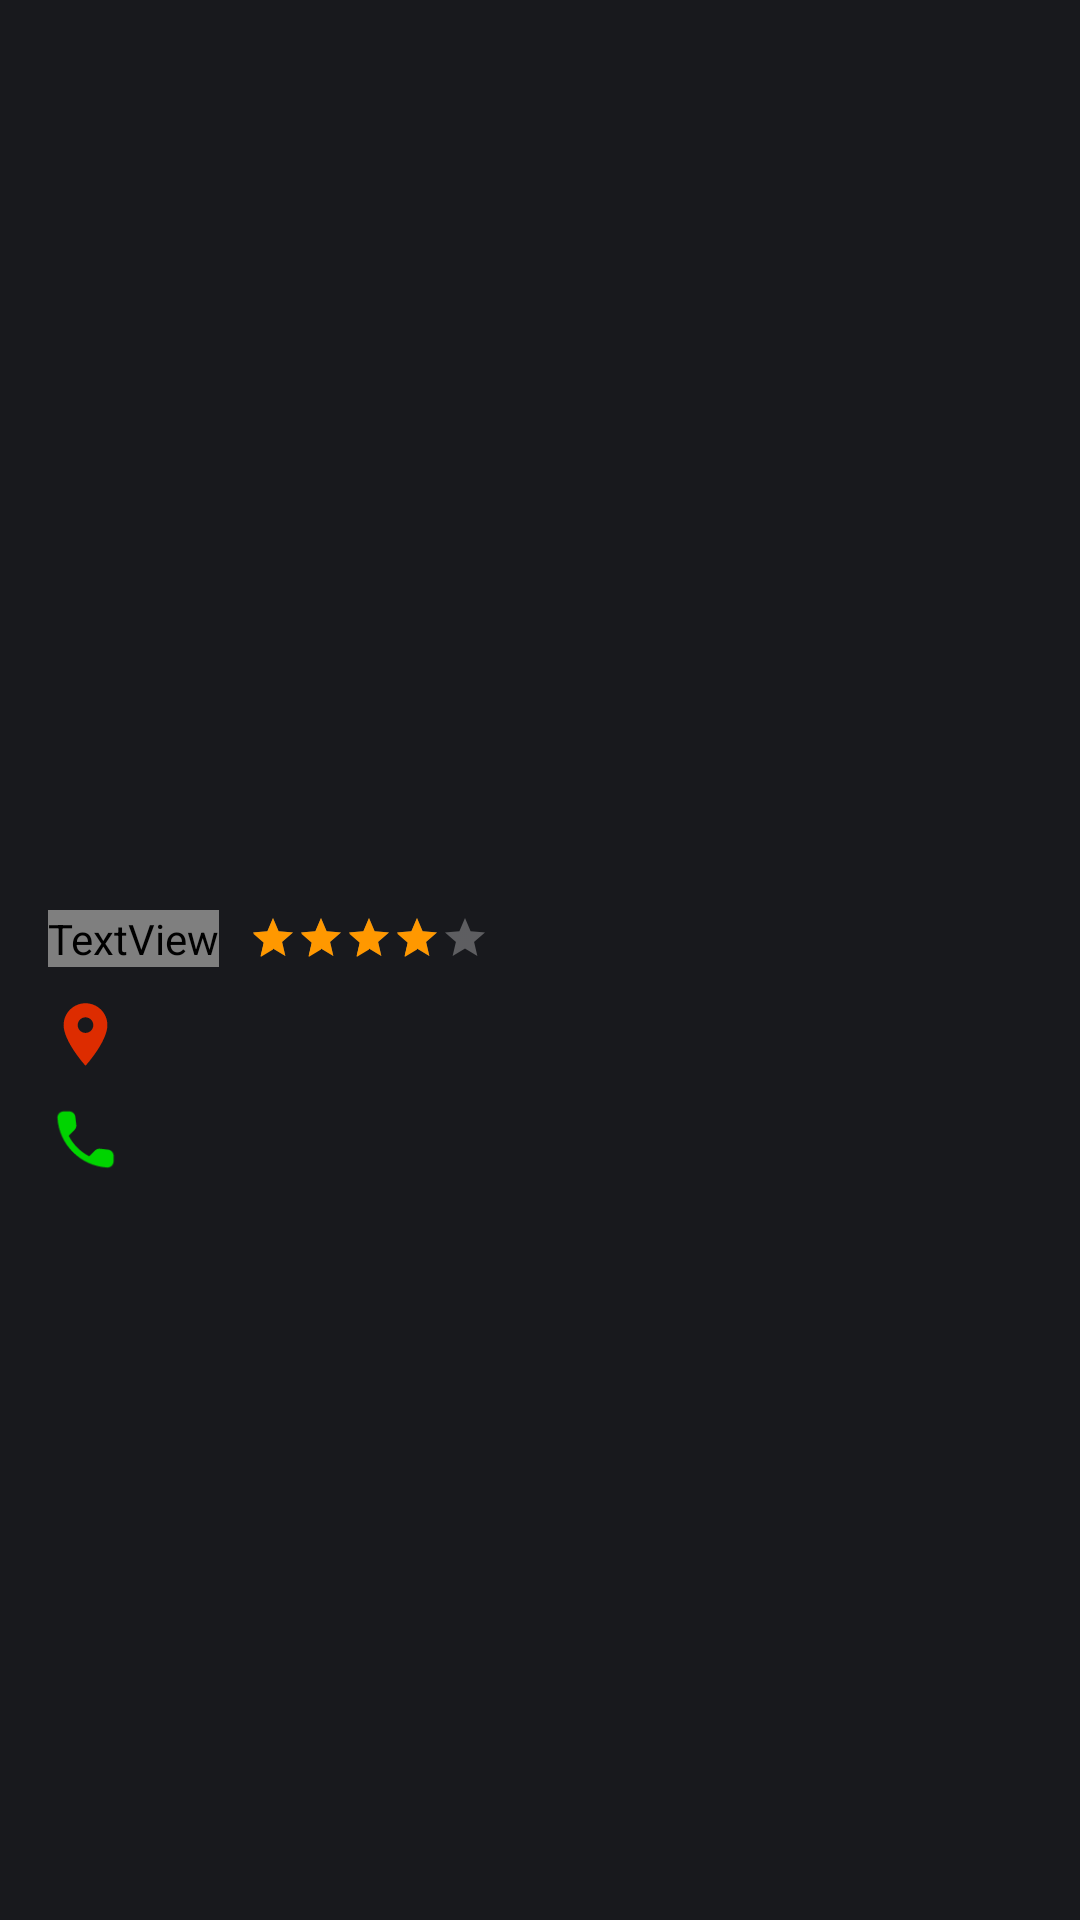

Locate icon controls on the screen. Image size 1080w x 1920h, boxes as (x1, y1, x2, y2).
location: (63, 1003, 108, 1066)
phone: (57, 1111, 114, 1168)
